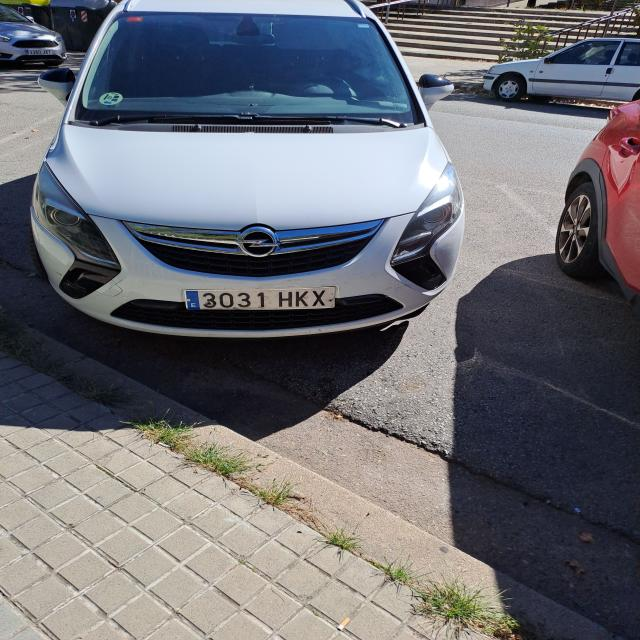license_plate-34Td: (185, 286, 336, 310)
